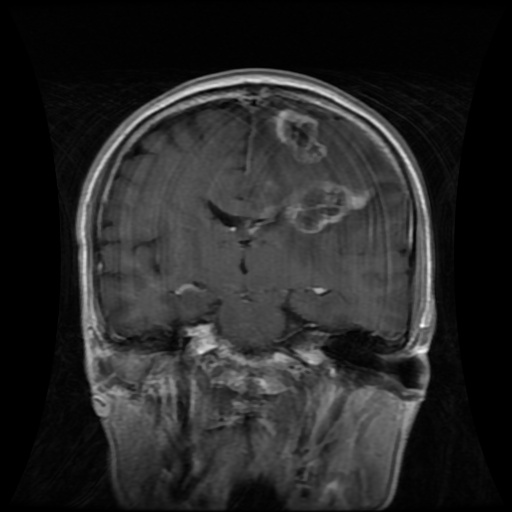glioma: (281, 182, 374, 232)
